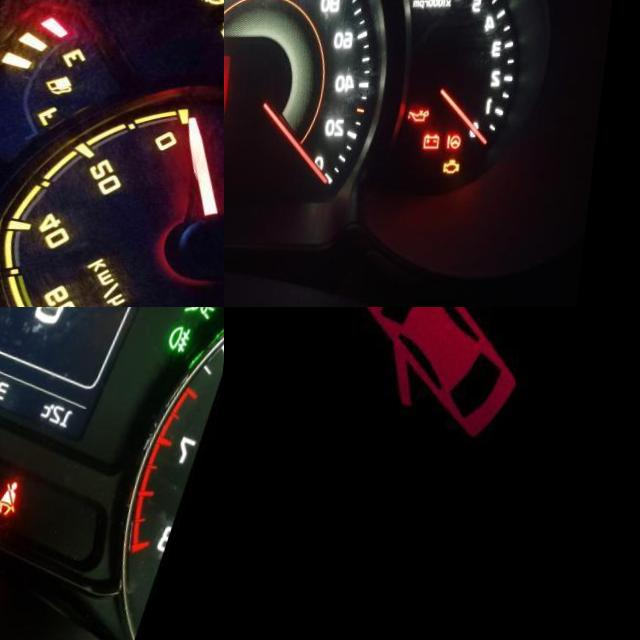FrontFogLight: (174, 320, 203, 353)
SideLamp: (189, 307, 224, 319)
